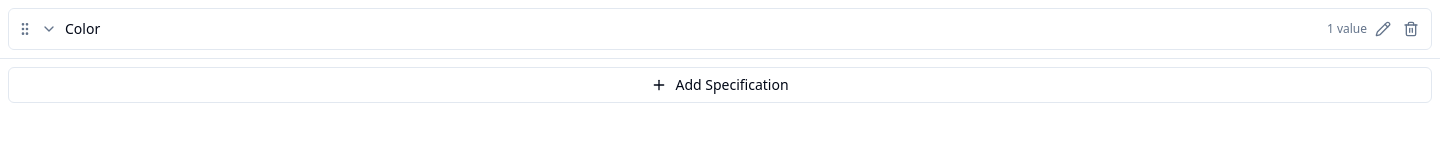
it: SpecificationList › handles spec with empty skuFragment
Click the text "Color". click: (83, 28)
box: [65,19,100,38]
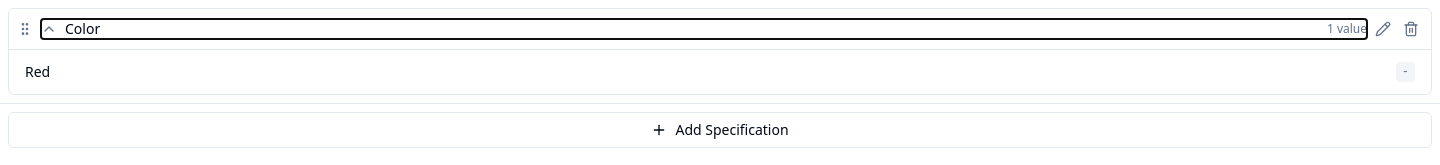
Expected: the text "-" is shown, [1396,62,1415,82]
Now the text "Red" is shown, box [25,62,50,81]
